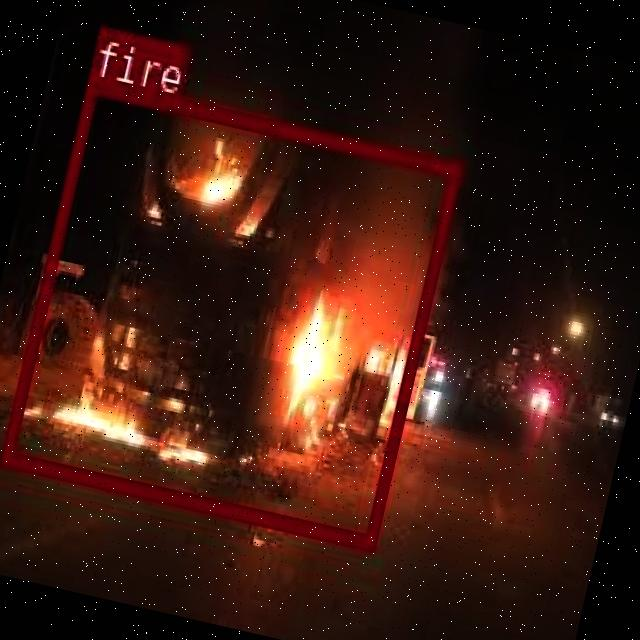fire: (0, 76, 461, 547)
